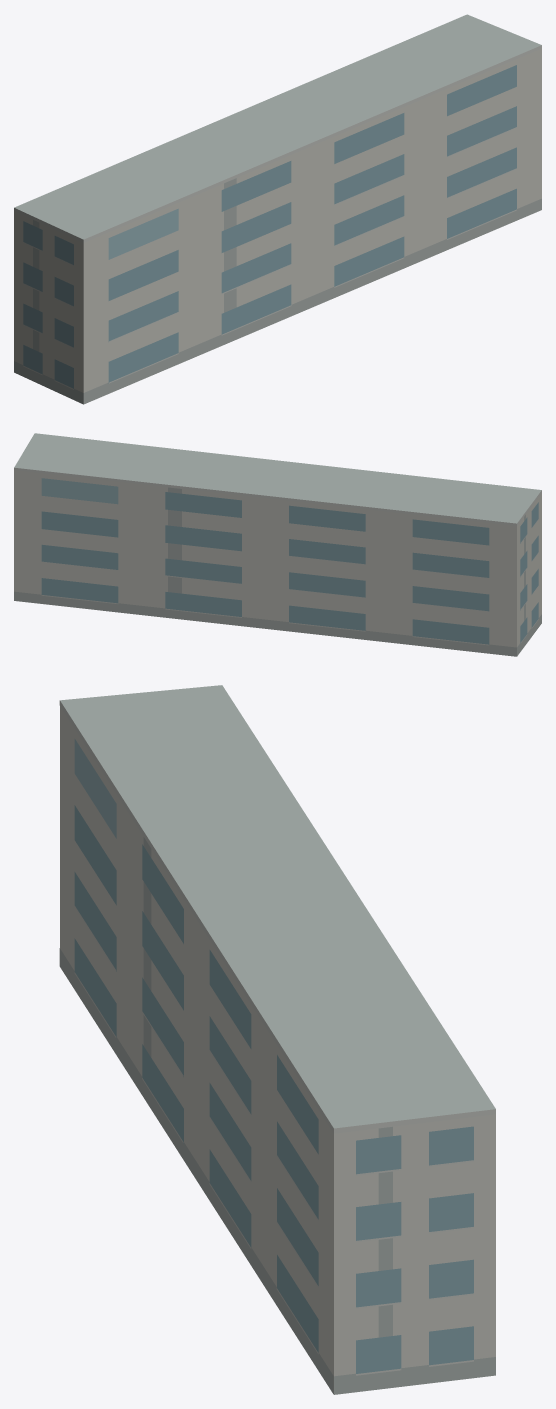
File: survey-upis-32766109.glb
3 renders of one model, top to bottom at view 1: azimuth 30°, elevation 25°; view 2: azimuth 150°, elevation 25°; view 3: azimuth 270°, elevation 25°, orthographic. The views are drawn at different scales.
Visible parts, largest first — view 1: survey-upis-32766109.tmp; view 2: survey-upis-32766109.tmp; view 3: survey-upis-32766109.tmp.
Part boxes in pixels (left/top/right/bottom): survey-upis-32766109.tmp: left=14, top=14, right=541, bottom=404; survey-upis-32766109.tmp: left=14, top=433, right=541, bottom=656; survey-upis-32766109.tmp: left=59, top=685, right=495, bottom=1394.
Bounding box in the file's own units: 43.56 × 12.2 × 18.11.
